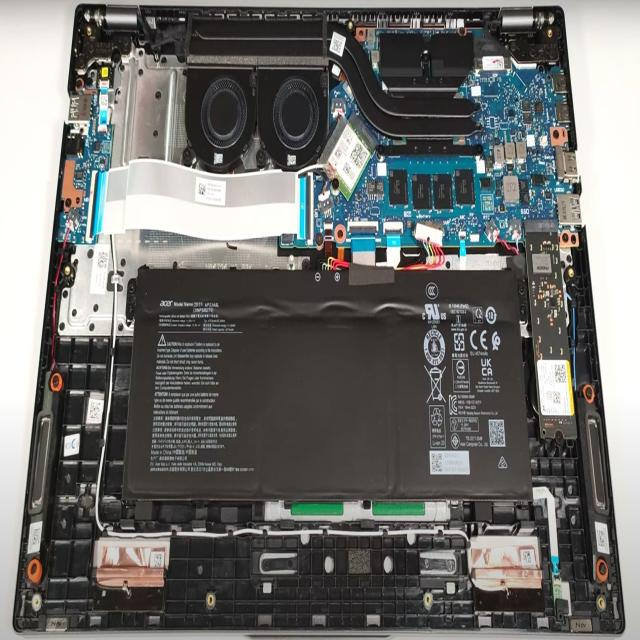battery: (138, 274, 522, 489)
ssd: (523, 221, 579, 441)
wifi: (321, 119, 374, 200)
